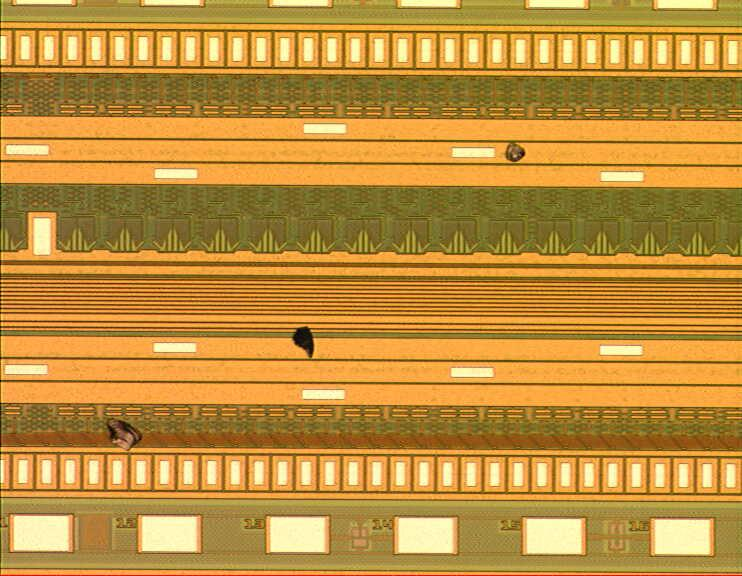PO CONTAMINATION: (101, 184, 471, 458)
